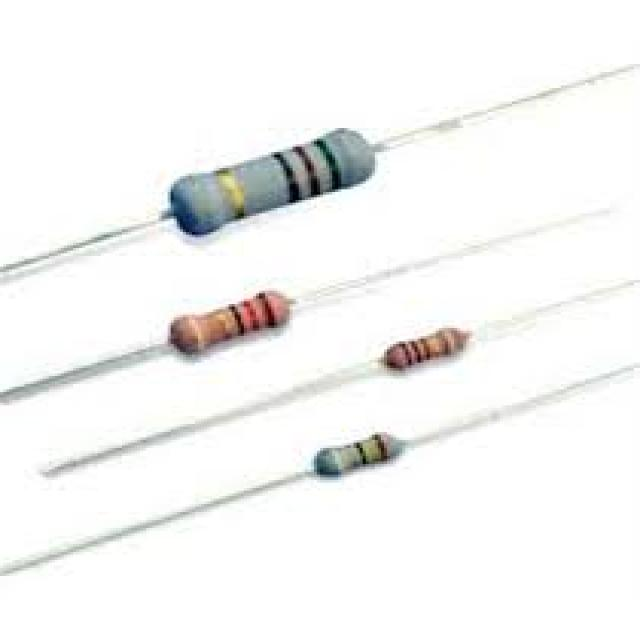Resistor: (168, 127, 376, 236), (171, 288, 296, 356), (312, 432, 404, 478), (383, 325, 474, 371)
